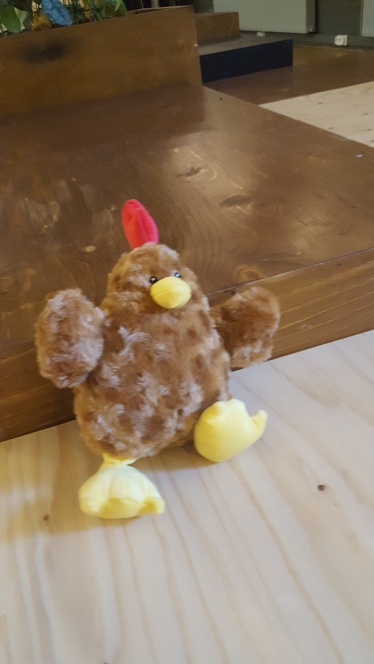chicken_front: (33, 199, 280, 523)
